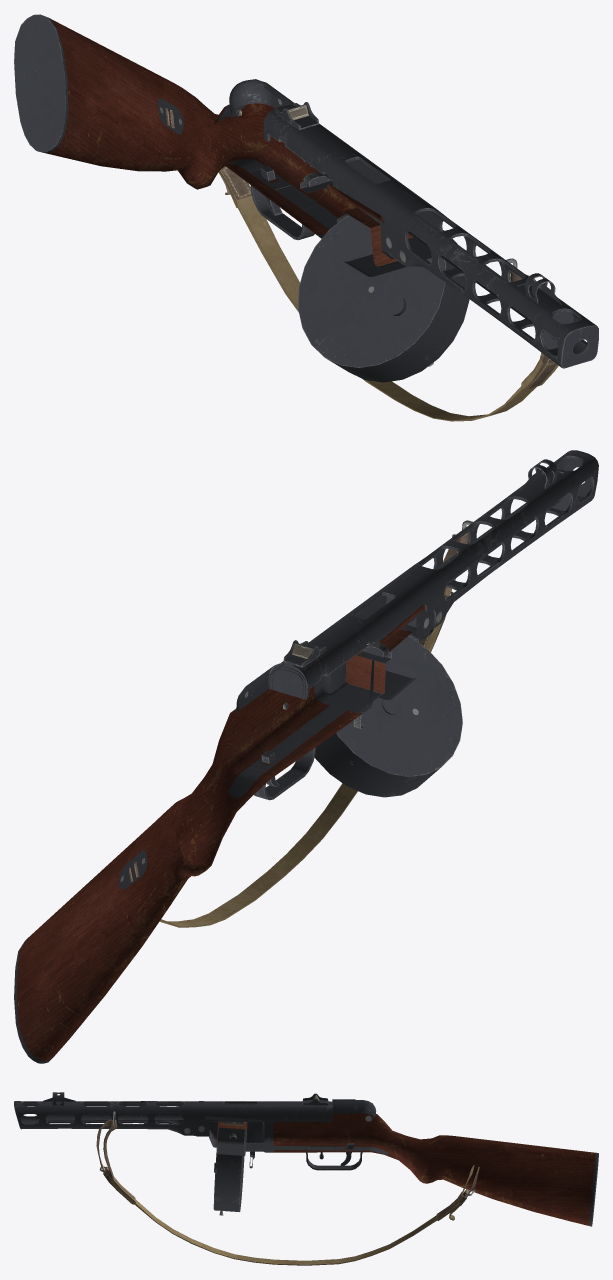
The model's file is PPSH 41.obj.
The picture shows the model from 3 angles, top to bottom: view 1: azimuth 30°, elevation 25°; view 2: azimuth 150°, elevation 25°; view 3: azimuth 270°, elevation 25°; orthographic projection. The views are drawn at different scales.
Parts seen in each view (by area): view 1: ppsh; view 2: ppsh; view 3: ppsh.
Part boxes in pixels (left/top/right/bottom): ppsh: left=14, top=14, right=598, bottom=421; ppsh: left=14, top=450, right=598, bottom=1063; ppsh: left=14, top=1092, right=598, bottom=1265.
Bounding box in the file's own units: 11.12 × 20.85 × 72.09.
